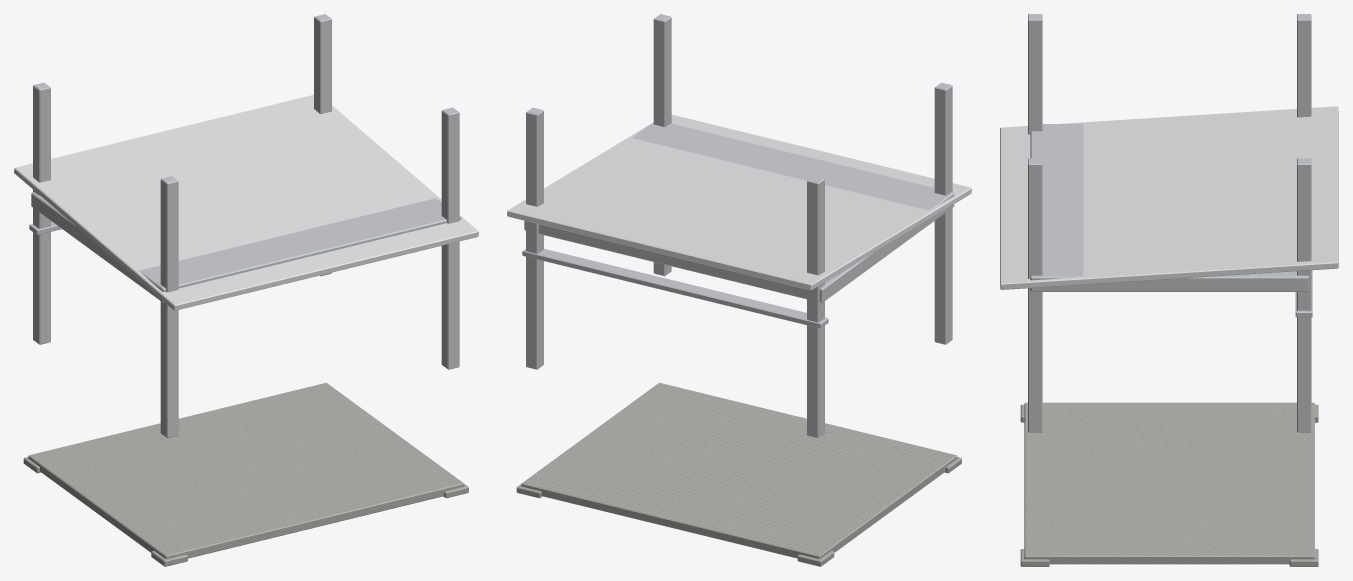
File: japanese-school-and-city-street-covered-walkway-sectio-70763394__30069.glb
The picture shows the model from 3 angles, left to right: view 1: azimuth 30°, elevation 25°; view 2: azimuth 150°, elevation 25°; view 3: azimuth 270°, elevation 25°; orthographic projection. The views are drawn at different scales.
Parts seen in each view (by area): view 1: covered-walkway-section; view 2: covered-walkway-section; view 3: covered-walkway-section.
Boxes of the visible parts, x1,y1,x2,y2 form: covered-walkway-section: (14,14,478,566); covered-walkway-section: (507,14,971,566); covered-walkway-section: (1000,14,1338,566).
Bounding box in the file's own units: 3.06 × 3.64 × 2.8.
3 materials, 1 textured.
